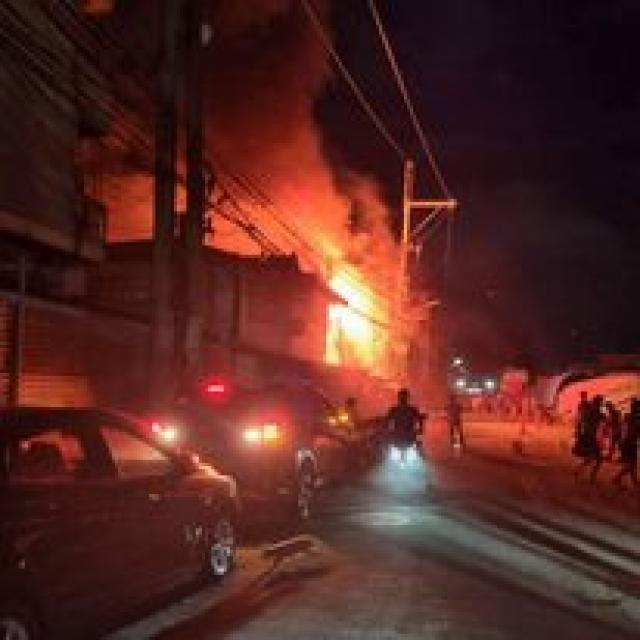Fire: (333, 259, 396, 358)
Smoke: (203, 0, 367, 235), (324, 174, 413, 288)
